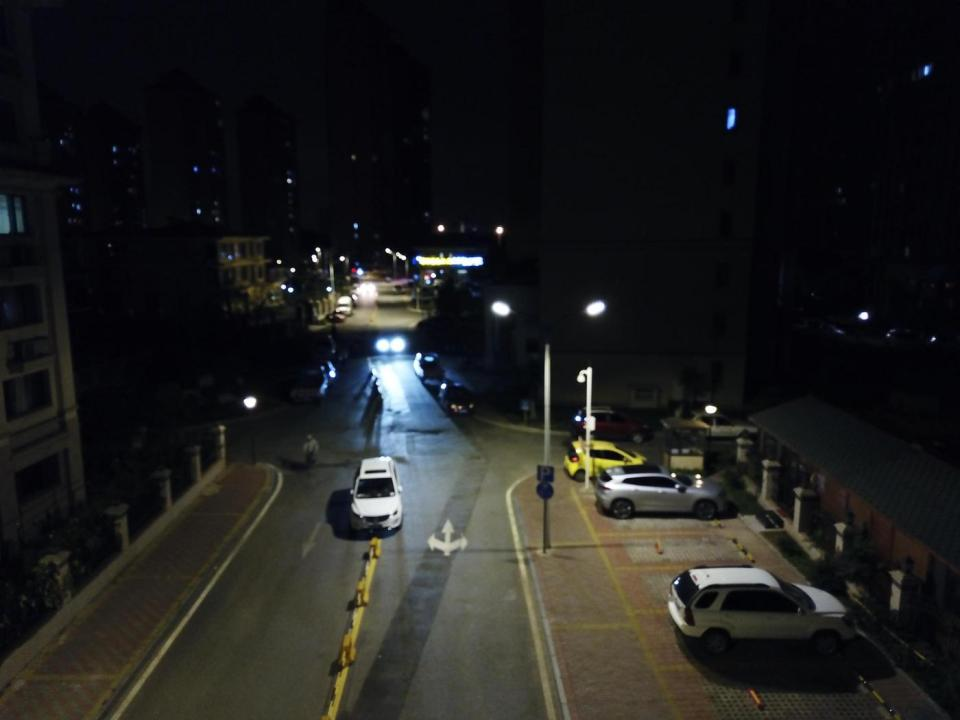car: (667, 564, 856, 657), (595, 465, 728, 520), (348, 456, 404, 531), (564, 439, 649, 482), (663, 407, 761, 444), (571, 406, 655, 444), (291, 360, 337, 403), (438, 382, 475, 415), (413, 352, 446, 382), (884, 327, 924, 350), (310, 334, 338, 359), (812, 323, 846, 338), (792, 316, 826, 330), (336, 296, 353, 316)
